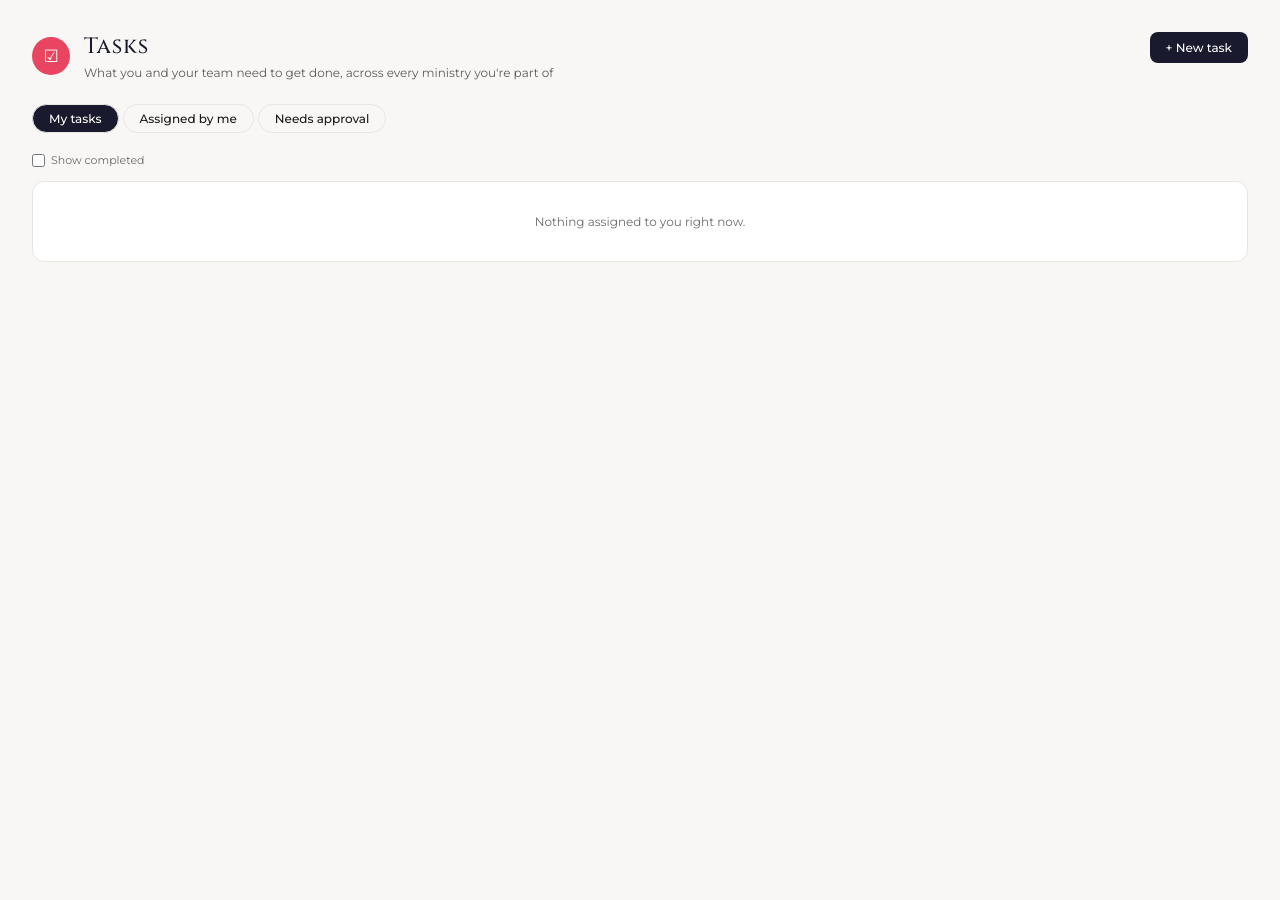
Test: blocks creating a recurring task with no due date
Click the button "+ New task".
click(1199, 48)  # box [1150,32,1248,63]
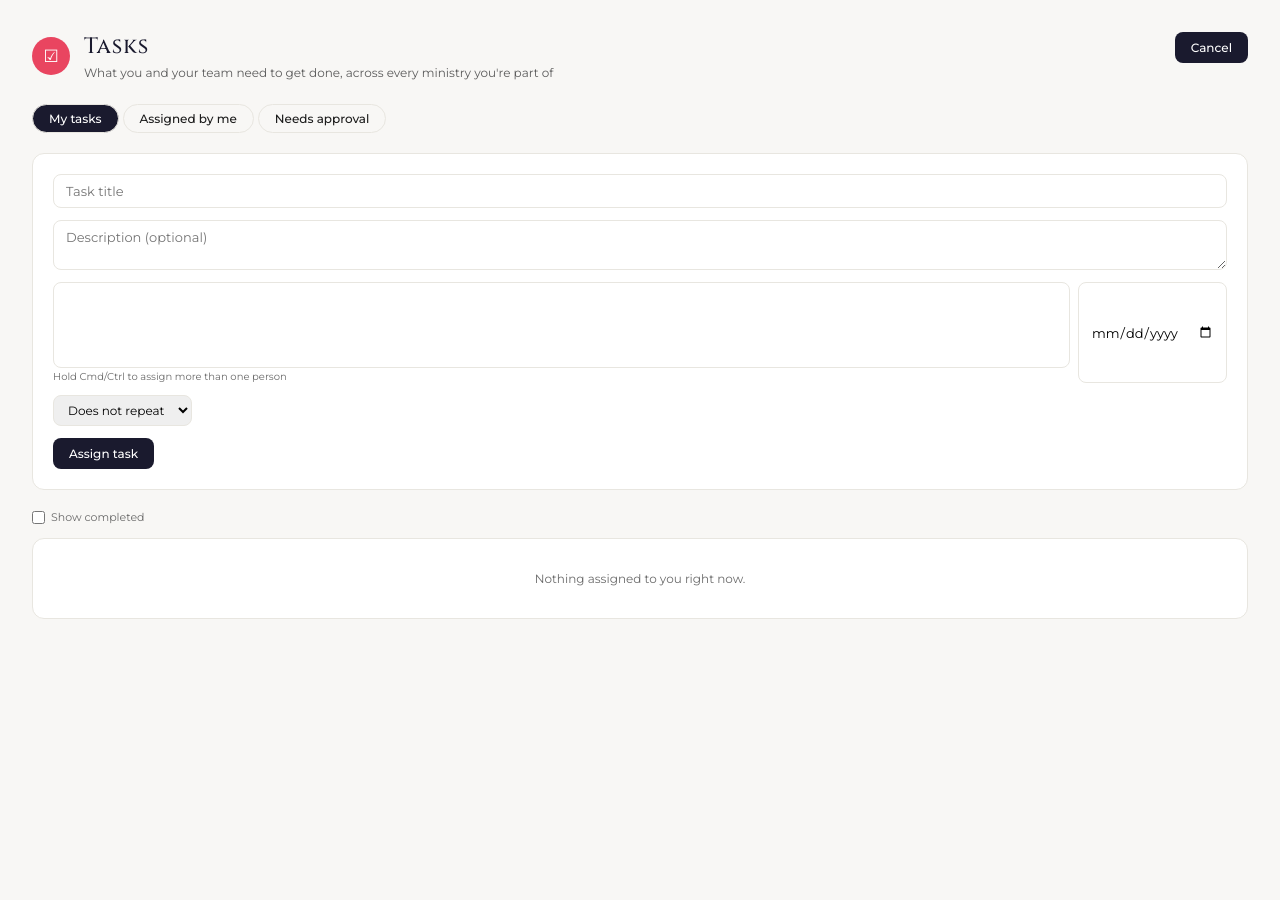
Type "Submit the bulletin" into the field with placeholder "Task title".
click(640, 191); type("Submit the bulletin")  # box [53,174,1227,208]
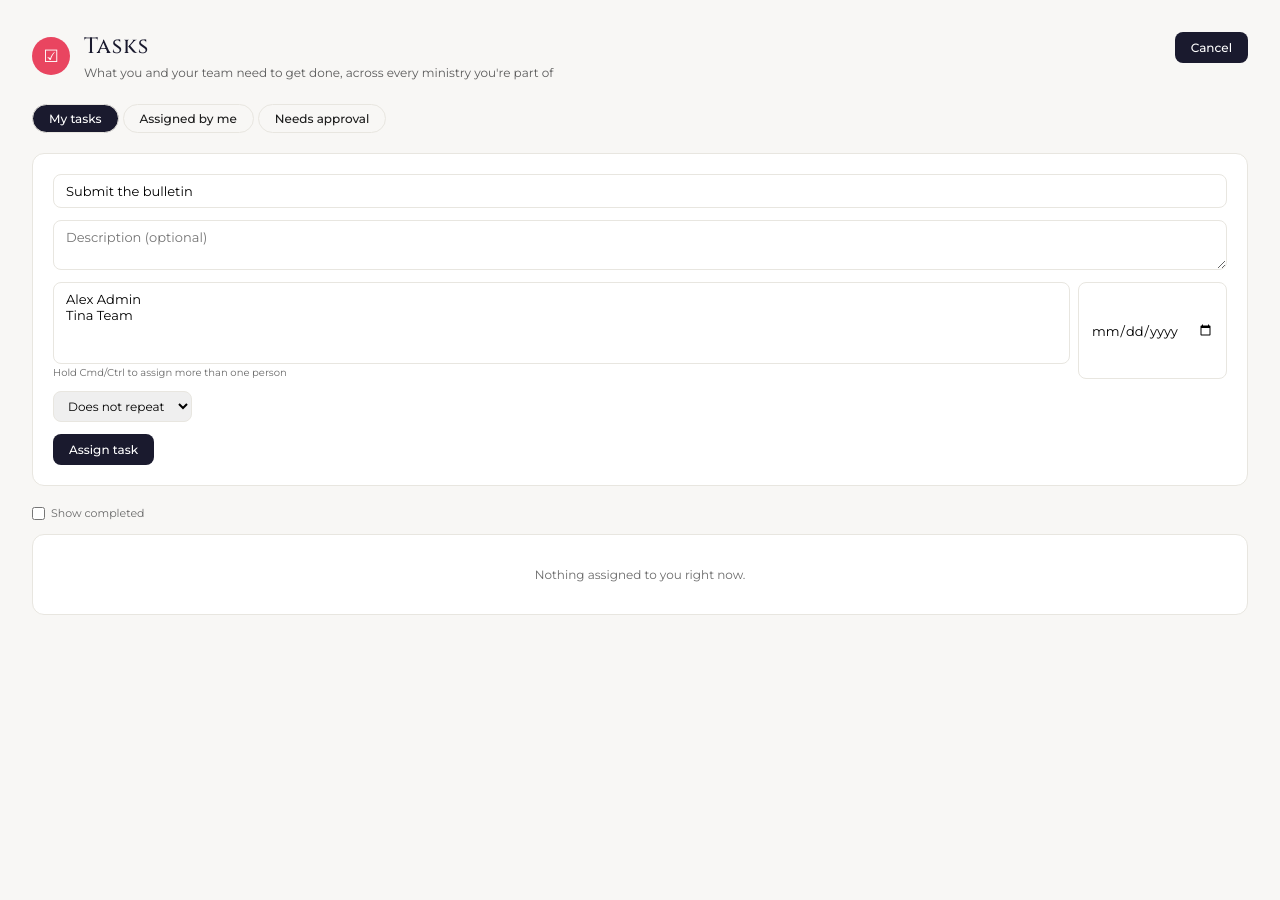
Select "Tina Team" in the dropdown named "Assign to" at (562, 323), box [53,282,1070,364]
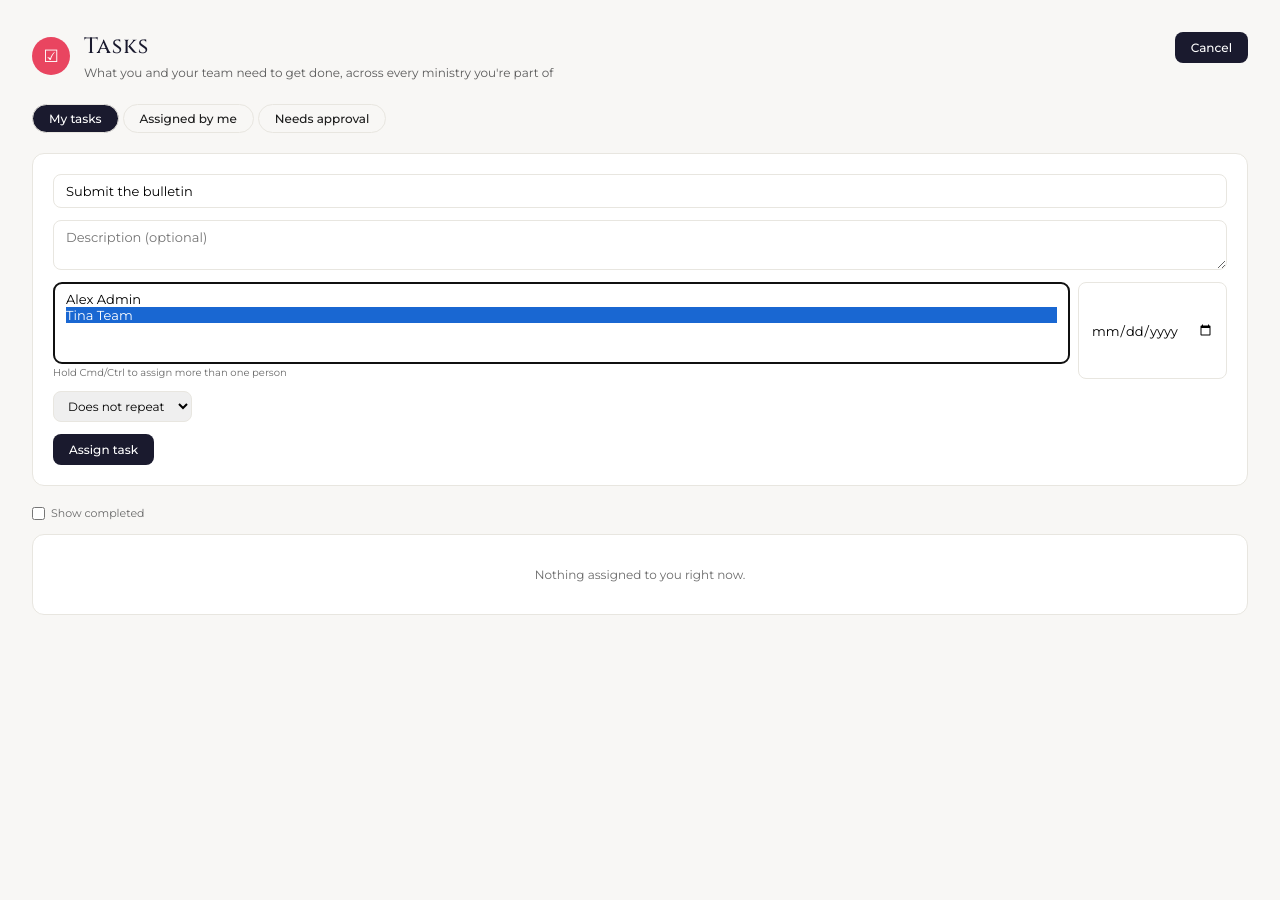
Select "Weekly" in the dropdown "Does not repeat" at (122, 406), box [53,391,192,422]
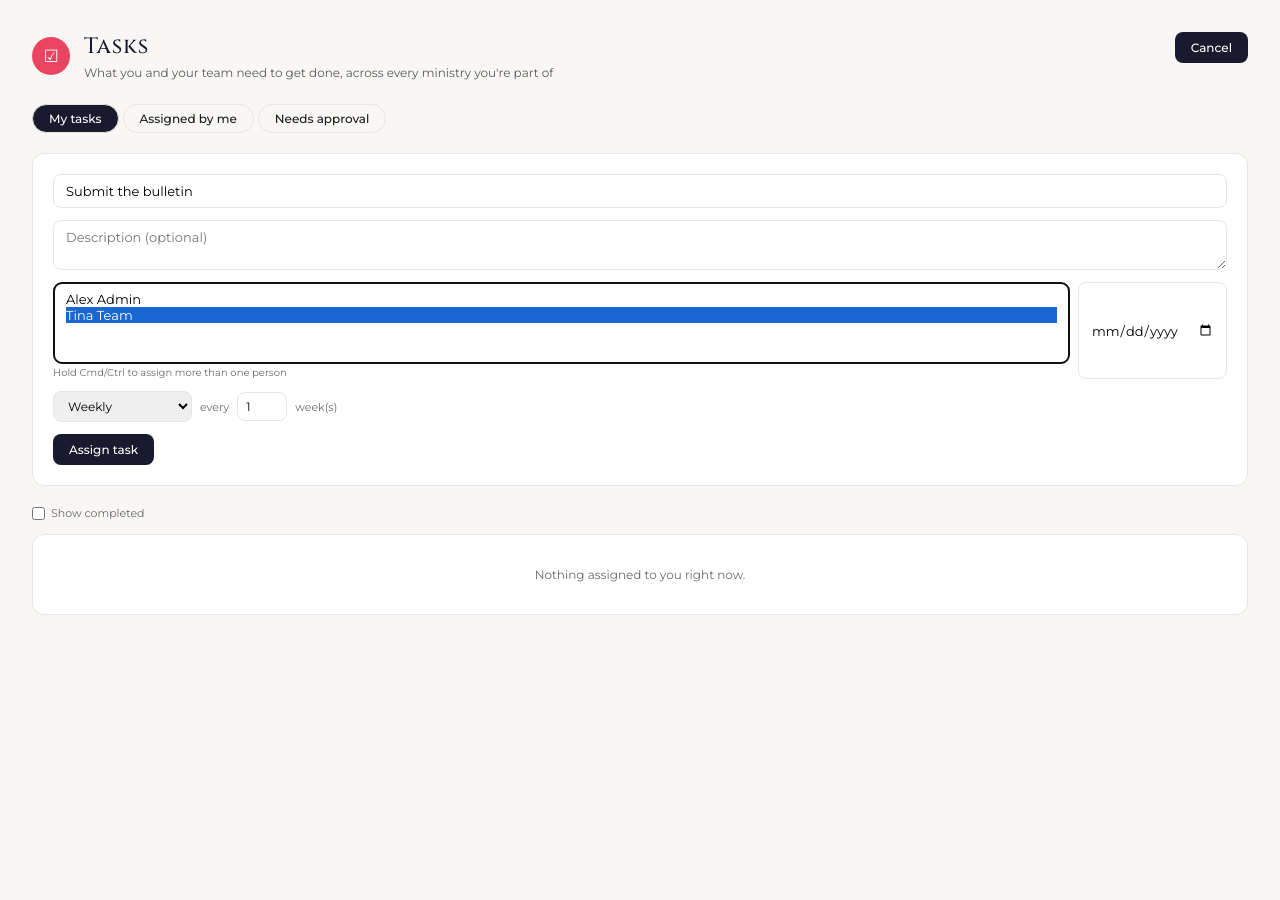
Click the button "Assign task".
click(104, 450)  # box [53,434,154,465]
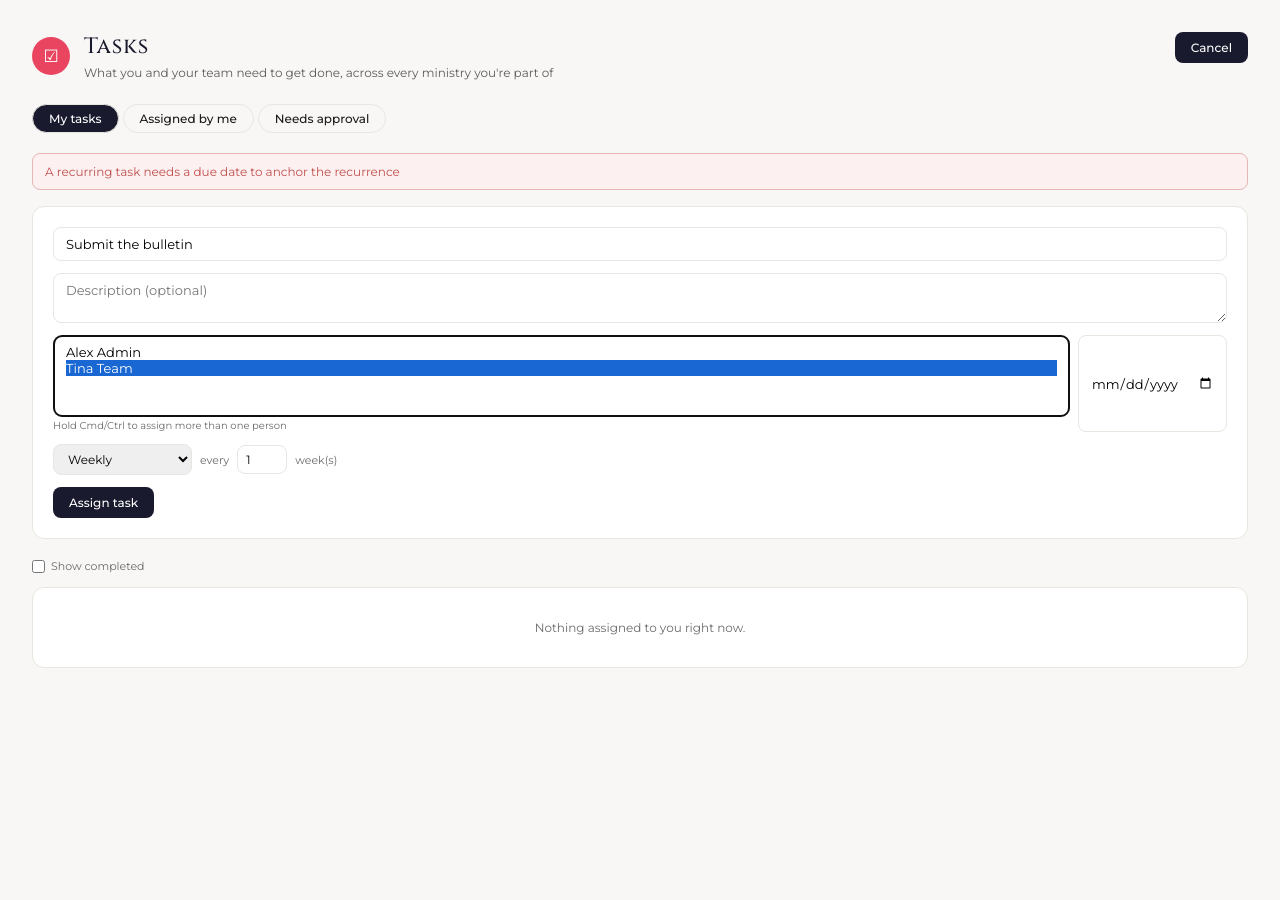
Check: the text "A recurring task needs a due date to anchor the recurrence" is shown, box [32,153,1248,190]
